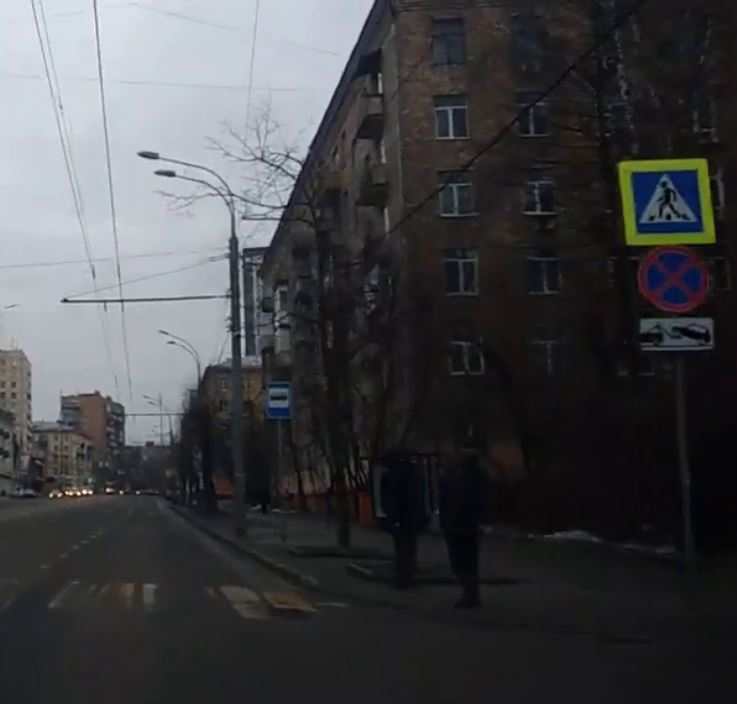Yaya Gecidi: (633, 169, 708, 234)
